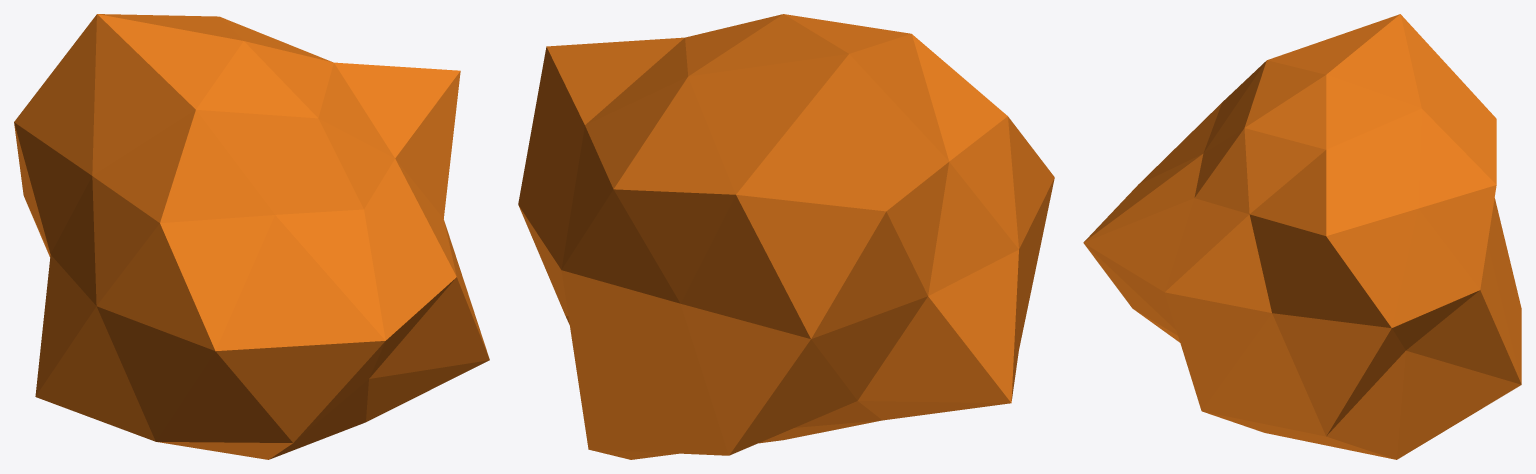
Rendered from Asteroid2.fbx.
The picture shows the model from 3 angles, left to right: view 1: azimuth 30°, elevation 25°; view 2: azimuth 150°, elevation 25°; view 3: azimuth 270°, elevation 25°; orthographic projection. The views are drawn at different scales.
Parts seen in each view (by area): view 1: Asteroid2; view 2: Asteroid2; view 3: Asteroid2.
Part boxes in pixels (x1,y1,x2,y2): Asteroid2: (14,14,489,459); Asteroid2: (518,14,1054,459); Asteroid2: (1083,14,1521,459).
Size of the model in its own units: 219 by 208 by 228.
